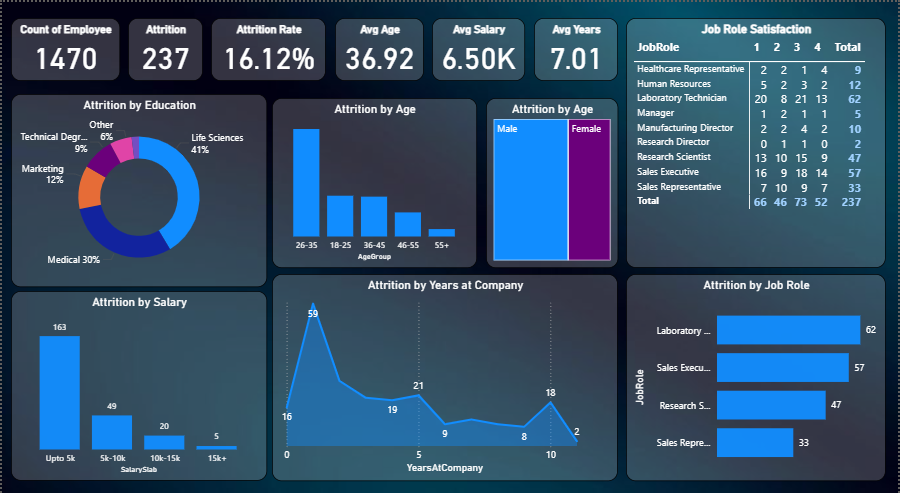

Layout of this report page (visuals, bound fields, positions):
{"tool":"powerbi","page":{"name":"Page 1","canvas":[1280,720],"ordinal":0},"visuals":[{"type":"card","title":"Count of Employee","fields":{"Values":["CountNonNull(HR_Analytics.EmpID)"]},"box":[12.9,22.9,155.7,90],"z":0},{"type":"card","title":"Attrition","fields":{"Values":["Sum(HR_Analytics.AttritionCount)"]},"box":[180,22.9,107.1,90],"z":1000},{"type":"card","title":"Attrition Rate","fields":{"Values":["HR_Analytics.AttritionRate"]},"box":[298.6,22.9,164.3,90],"z":2000},{"type":"card","title":"Avg Age","fields":{"Values":["Avg(HR_Analytics.Age)"]},"box":[475.7,22.9,127.1,90],"z":3000},{"type":"card","title":"Avg Salary","fields":{"Values":["Avg(HR_Analytics.MonthlyIncome)"]},"box":[614.3,22.9,132.9,90],"z":4000},{"type":"card","title":"Avg Years","fields":{"Values":["Avg(HR_Analytics.YearsAtCompany)"]},"box":[760,22.9,120,90],"z":5000},{"type":"donutChart","title":"Attrition by Education","fields":{"Category":["HR_Analytics.EducationField"],"Y":["Sum(HR_Analytics.Education)"]},"box":[12.9,131.4,365.7,275.7],"z":6000},{"type":"columnChart","title":"Attrition by Age","fields":{"Category":["HR_Analytics.AgeGroup"],"Y":["Sum(HR_Analytics.AttritionCount)"]},"box":[388.8,131,292.3,275],"z":7000},{"type":"pivotTable","title":"Job Role Satisfaction","fields":{"Rows":["HR_Analytics.JobRole"],"Columns":["HR_Analytics.JobSatisfaction"],"Values":["Sum(HR_Analytics.AttritionCount)"]},"box":[891.4,22.9,371.4,357.1],"z":8000},{"type":"columnChart","title":"Attrition by Salary","fields":{"Category":["HR_Analytics.SalarySlab"],"Y":["Sum(HR_Analytics.AttritionCount)"]},"box":[13,413.3,365.8,288],"z":9000},{"type":"barChart","title":"Attrition by Job Role","fields":{"Category":["HR_Analytics.JobRole"],"Y":["Sum(HR_Analytics.AttritionCount)"]},"box":[891.4,388.8,371.5,312.5],"z":10000},{"type":"areaChart","title":"Attrition by Years at Company","fields":{"Category":["HR_Analytics.YearsAtCompany"],"Y":["Sum(HR_Analytics.AttritionCount)"]},"box":[385.9,413.3,493.9,288],"z":11000},{"type":"treemap","title":"Attrition by Gender","fields":{"Group":["HR_Analytics.Gender"],"Values":["Sum(HR_Analytics.AttritionCount)"]},"box":[691.2,131,188.6,275],"z":12000}]}

Visuals, with their boxes in screenshot pixels (x1, y1, x2, y2), scaled from the page's 1280x720 canvas onto the 900x493 screenshot:
"Count of Employee" card: <region>9, 16, 119, 77</region>
"Attrition" card: <region>127, 16, 202, 77</region>
"Attrition Rate" card: <region>210, 16, 325, 77</region>
"Avg Age" card: <region>334, 16, 424, 77</region>
"Avg Salary" card: <region>432, 16, 525, 77</region>
"Avg Years" card: <region>534, 16, 619, 77</region>
"Attrition by Education" donutChart: <region>9, 90, 266, 279</region>
"Attrition by Age" columnChart: <region>273, 90, 479, 278</region>
"Job Role Satisfaction" pivotTable: <region>627, 16, 888, 260</region>
"Attrition by Salary" columnChart: <region>9, 283, 266, 480</region>
"Attrition by Job Role" barChart: <region>627, 266, 888, 480</region>
"Attrition by Years at Company" areaChart: <region>271, 283, 619, 480</region>
"Attrition by Gender" treemap: <region>486, 90, 619, 278</region>
